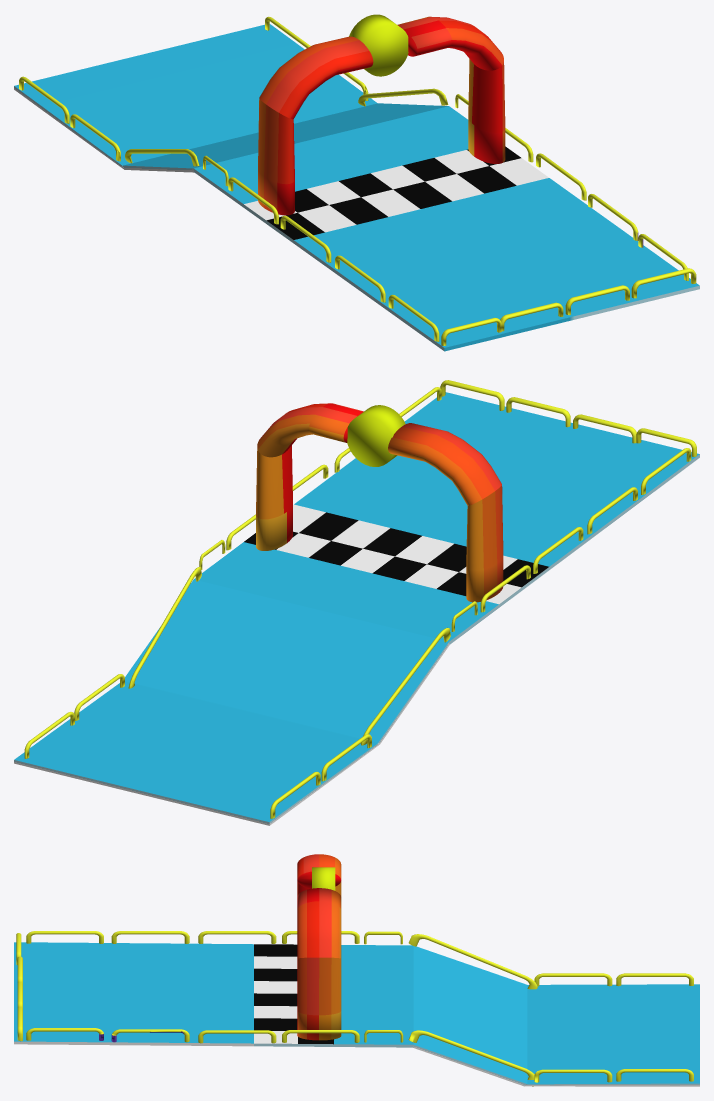
The model's file is metafinal 1.fbx.
The picture shows the model from 3 angles, top to bottom: view 1: azimuth 30°, elevation 25°; view 2: azimuth 150°, elevation 25°; view 3: azimuth 270°, elevation 25°; orthographic projection. The views are drawn at different scales.
Visible parts, largest first — view 1: Circle; view 2: Circle; view 3: Circle.
Part boxes in pixels (box(x1,y1,x2,y2)): Circle: box(14, 14, 699, 351); Circle: box(14, 380, 699, 825); Circle: box(14, 854, 699, 1086).
Bounding box in the file's own units: 1082 × 861 × 3110.
15 materials, 15 textured.
